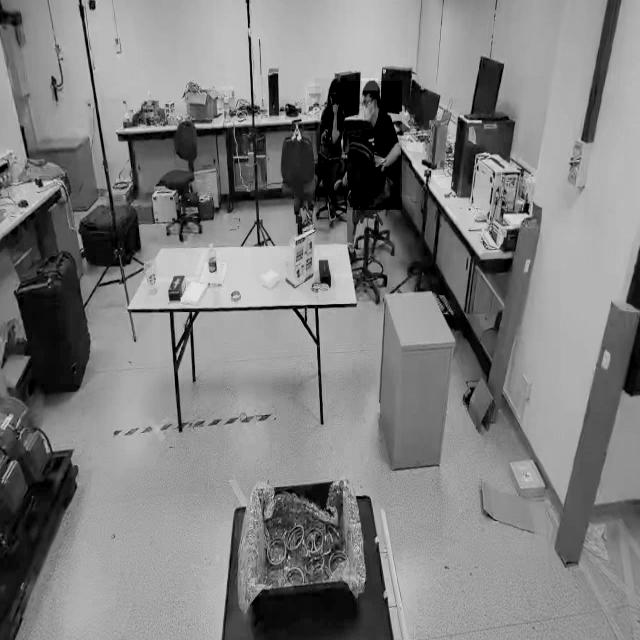face_mask: (363, 94, 375, 129)
face_nomask: (329, 94, 339, 106)
hand_noglove: (320, 126, 330, 142), (332, 100, 338, 116)
head_nohelmet: (361, 78, 379, 92), (328, 77, 342, 90)
person: (344, 81, 402, 211), (315, 78, 347, 222)
